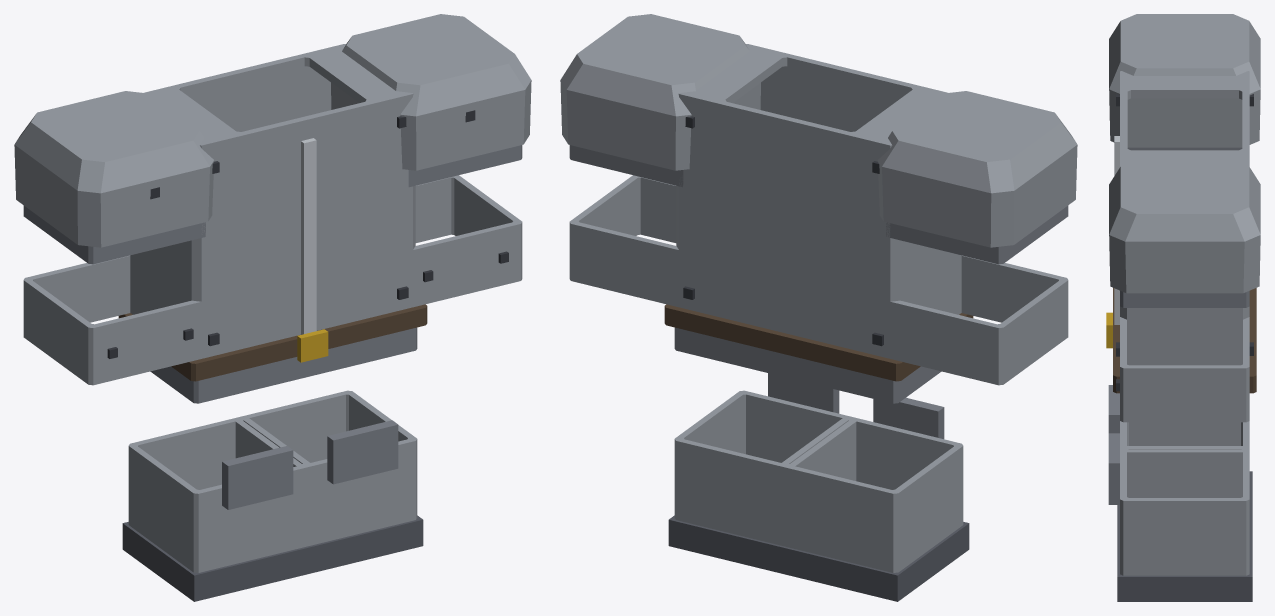
File: w3_armor_ironplate.fbx
The picture shows the model from 3 angles, left to right: view 1: azimuth 30°, elevation 25°; view 2: azimuth 150°, elevation 25°; view 3: azimuth 270°, elevation 25°; orthographic projection. The views are drawn at different scales.
Parts seen in each view (by area): view 1: IronPlate.Plate, IronPlate.PauldronR, IronPlate.PauldronL, IronPlate.GreaveR, IronPlate.BracerR, IronPlate.GreaveL, IronPlate.BracerL, IronPlate.Fauld, IronPlate.SabatonR, IronPlate.Belt, IronPlate.KneeL, IronPlate.KneeR (+6 smaller); view 2: IronPlate.Plate, IronPlate.PauldronR, IronPlate.GreaveR, IronPlate.PauldronL, IronPlate.GreaveL, IronPlate.BracerR, IronPlate.BracerL, IronPlate.Fauld, IronPlate.Belt, IronPlate.SabatonR, IronPlate.SabatonL, IronPlate.LameR (+3 smaller); view 3: IronPlate.PauldronL, IronPlate.PauldronR, IronPlate.Plate, IronPlate.GreaveL, IronPlate.GreaveR, IronPlate.BracerL, IronPlate.SabatonL, IronPlate.LameL, IronPlate.Belt, IronPlate.KneeL, IronPlate.KneeR, IronPlate.LameR (+3 smaller).
Part boxes in pixels (x1,y1,x2,y2): IronPlate.Plate: (130,44,415,358); IronPlate.PauldronR: (14,91,214,247); IronPlate.PauldronL: (331,14,531,170); IronPlate.GreaveR: (128,417,311,572); IronPlate.BracerR: (23,255,205,385); IronPlate.GreaveL: (234,390,417,547); IronPlate.BracerL: (408,175,522,307); IronPlate.Fauld: (150,327,417,403); IronPlate.SabatonR: (122,522,318,601); IronPlate.Belt: (118,304,427,381); IronPlate.KneeL: (327,420,398,484); IronPlate.KneeR: (222,446,293,509); IronPlate.Plate: (676,44,961,357); IronPlate.PauldronR: (877,91,1077,247); IronPlate.GreaveR: (780,416,963,572); IronPlate.PauldronL: (560,14,760,170); IronPlate.GreaveL: (674,390,856,546); IronPlate.BracerR: (886,255,1068,385); IronPlate.BracerL: (569,175,683,308); IronPlate.Fauld: (674,327,941,403); IronPlate.Belt: (664,304,973,381); IronPlate.SabatonR: (773,522,969,601); IronPlate.SabatonL: (668,515,793,576); IronPlate.LameR: (886,205,1068,264); IronPlate.PauldronL: (1109,159,1260,293); IronPlate.PauldronR: (1109,14,1260,147); IronPlate.Plate: (1120,71,1249,365); IronPlate.GreaveL: (1120,446,1249,575); IronPlate.GreaveR: (1120,421,1249,497); IronPlate.BracerL: (1120,317,1249,422); IronPlate.SabatonL: (1117,519,1252,601); IronPlate.LameL: (1120,290,1249,307); IronPlate.Belt: (1113,288,1256,393); IronPlate.KneeL: (1108,433,1119,504); IronPlate.KneeR: (1108,385,1119,433); IronPlate.LameR: (1127,147,1242,150).
Bounding box in the file's own units: 4.32 × 4.18 × 1.35.
